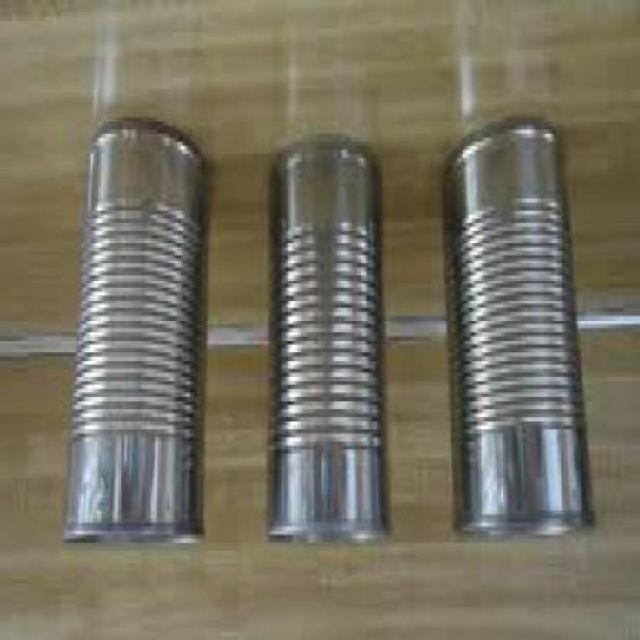METAL: (449, 122, 600, 543), (64, 126, 208, 551), (266, 142, 392, 550)
